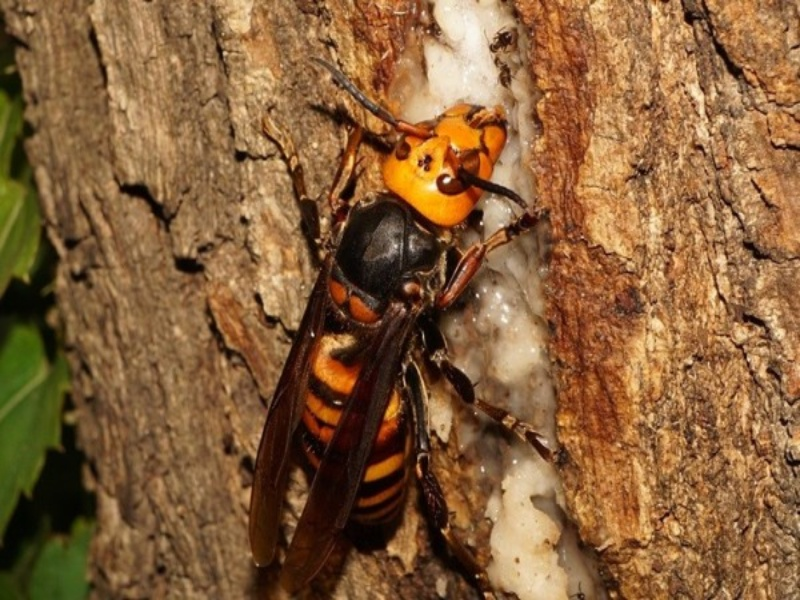asian_giant_hornet: (273, 99, 513, 554)
